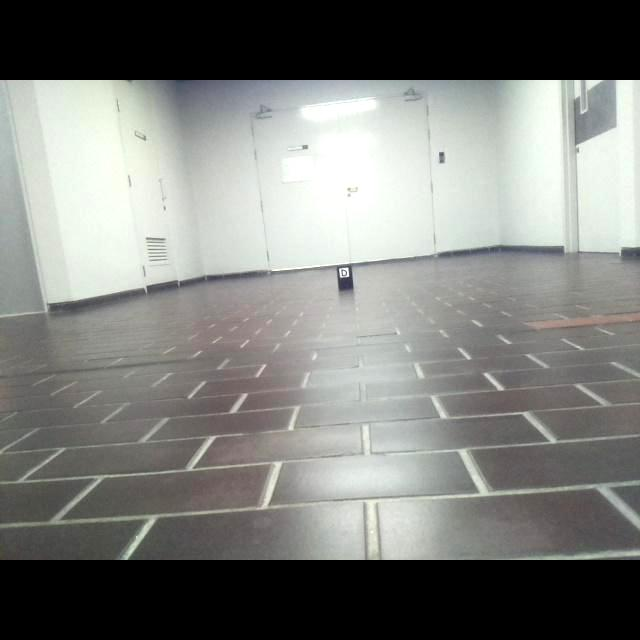D: (339, 269, 348, 276)
